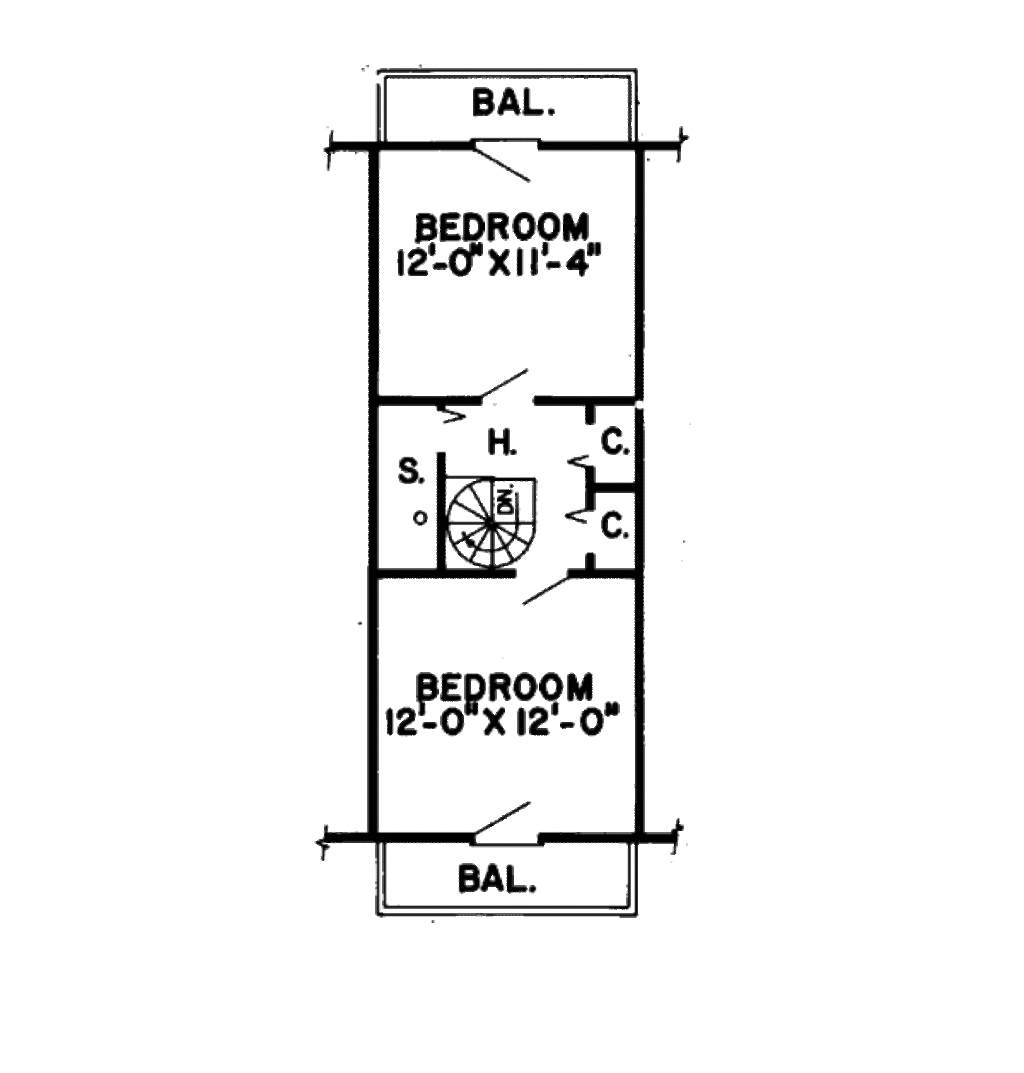door: (479, 360, 545, 426), (475, 796, 540, 852), (472, 130, 544, 178)
stairs: (440, 458, 539, 577)
